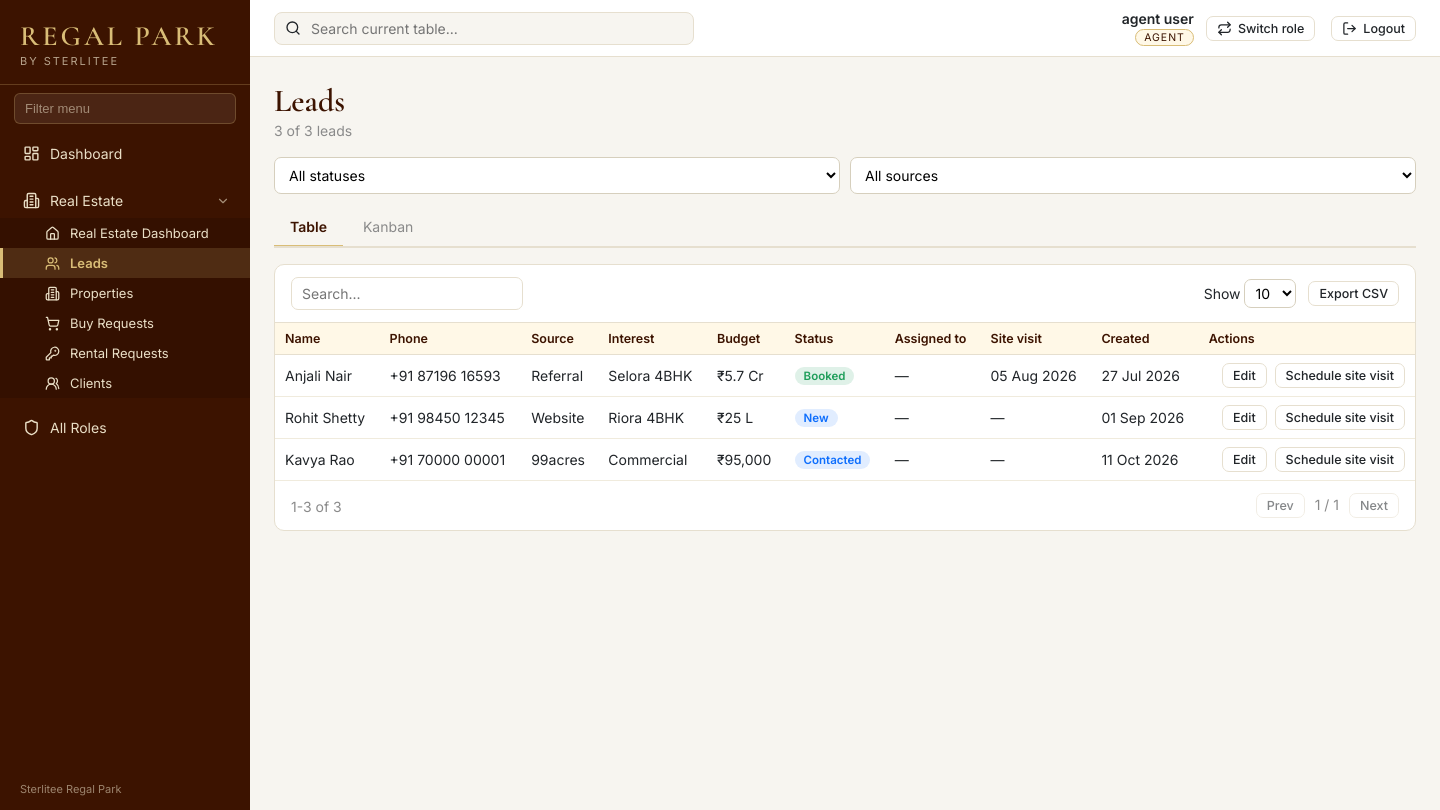
Test: Leads: 403 on /users hides assignee (PLAN §8) › no assignee filter, no assignedTo field, column shows "—", no error toast
The width and height of the screenshot is (1440, 810).
Expected: the button "Logout" is shown, [1331,16,1416,40]
Expected: the text "Rohit Shetty" is shown, [275,396,380,438]
Click the button "Edit" in the row of "Rohit Shetty": (1244, 418) [1222,405,1267,430]
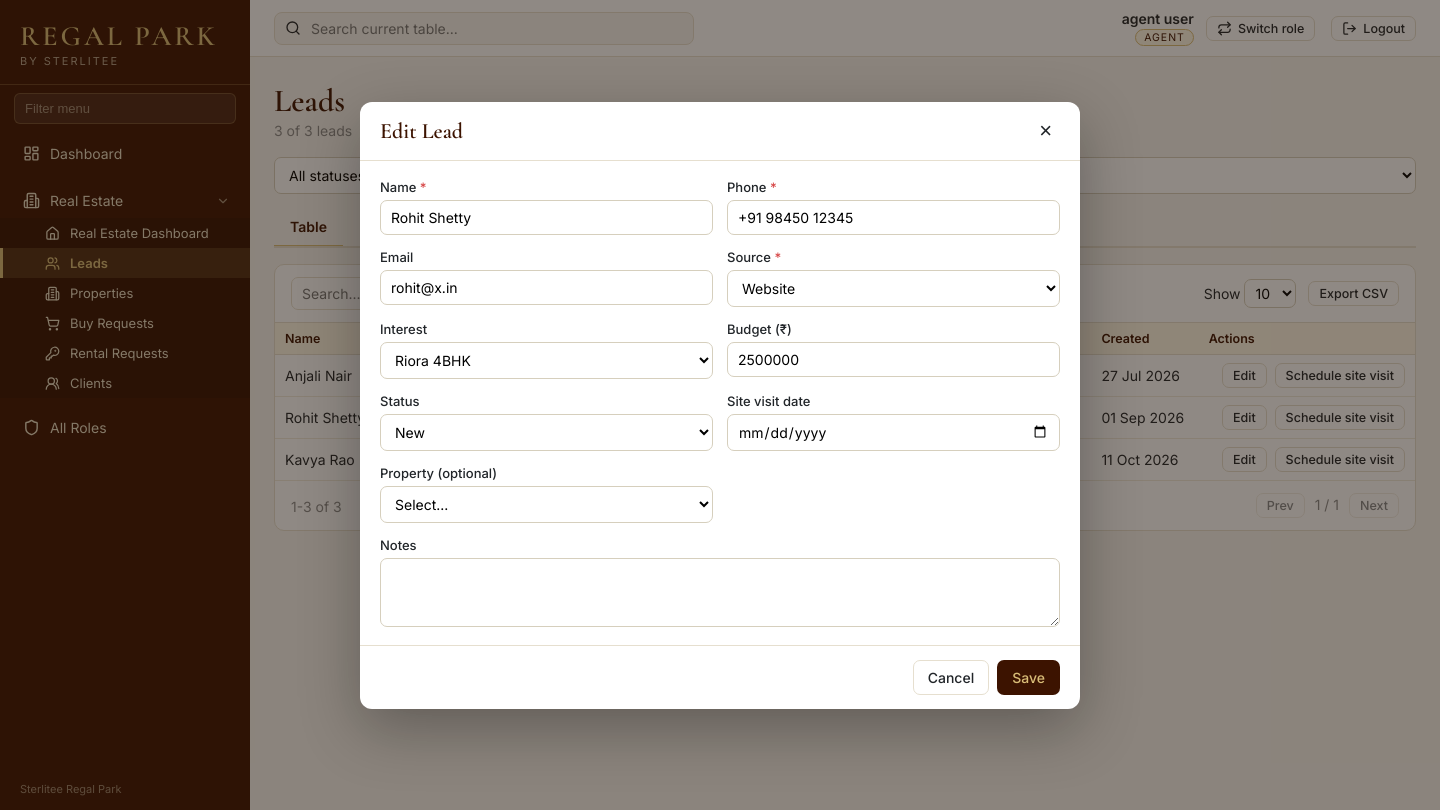
Expected: the dialog with class "modal" is shown, [360,102,1080,708]
